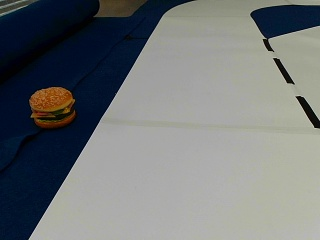burger: (27, 86, 76, 127)
